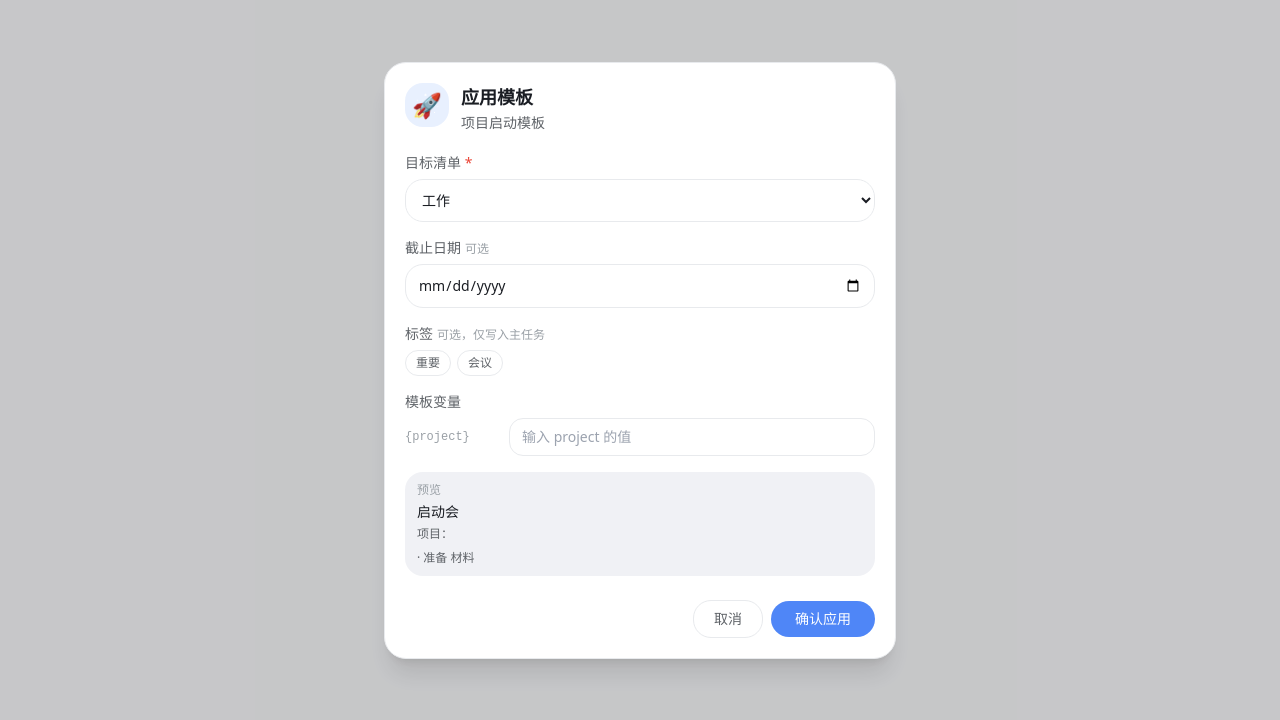
Test: ApplyTemplateDialog › 后端失败时展示可恢复错误，且不触发成功回调
What coordinates should you click on to do the following:
click the button "确认应用"
I would click on:
 (823, 618)
Its box is [771, 600, 875, 636].
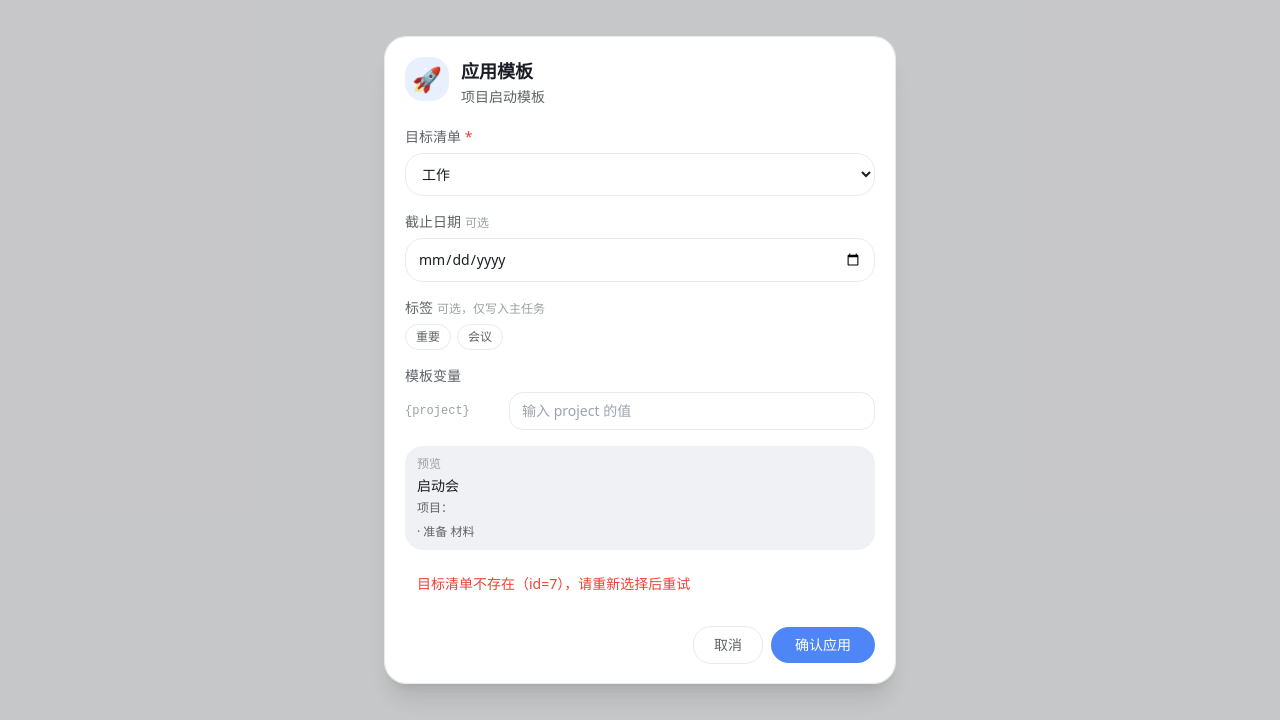
Result: the text "目标清单不存在（id=7），请重新选择后重试" is shown at [417, 574, 690, 593]
